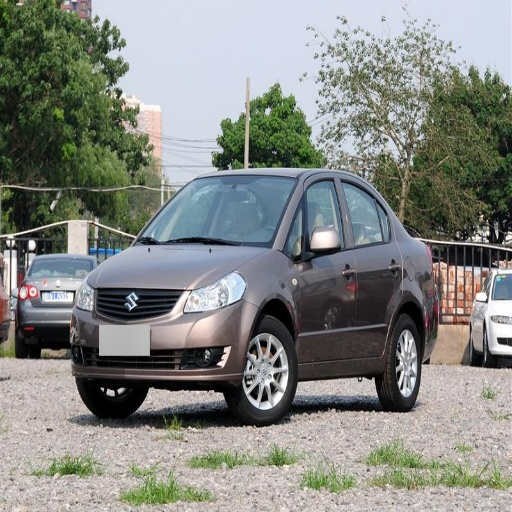front_bumper: (70, 286, 257, 386)
front_glass: (138, 176, 297, 246)
front_left_door: (286, 174, 356, 366)
